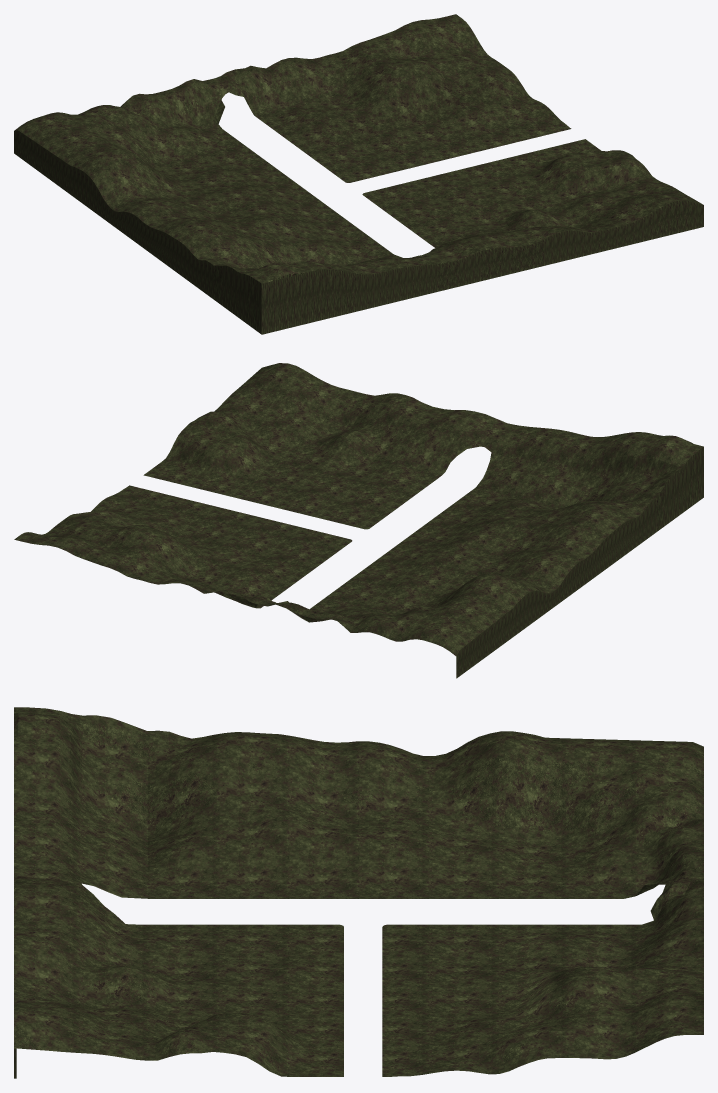
File: terrain.fbx
3 views of the same model, one above another, from view 1: azimuth 30°, elevation 25°; view 2: azimuth 150°, elevation 25°; view 3: azimuth 270°, elevation 25° (orthographic). The views are drawn at different scales.
Visible parts, largest first — view 1: terrain; view 2: terrain; view 3: terrain.
Boxes of the visible parts, x1=… form: terrain: x1=14, y1=14, x2=703, y2=334; terrain: x1=14, y1=363, x2=703, y2=678; terrain: x1=14, y1=707, x2=703, y2=1078.
Bounding box in the file's own units: 20482 × 2582 × 19884.
